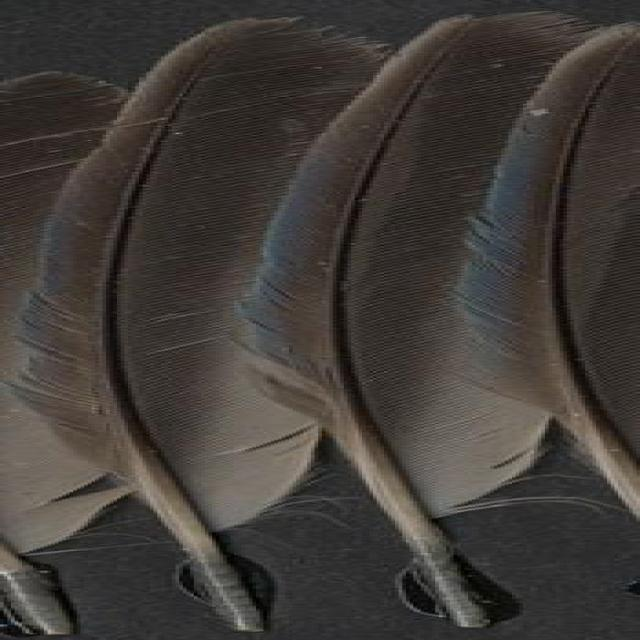feather: (244, 9, 603, 626), (18, 16, 378, 629)
